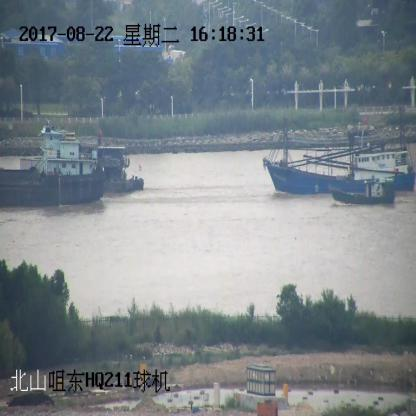Bulk Carrier: (0, 125, 106, 203), (0, 144, 144, 191)
